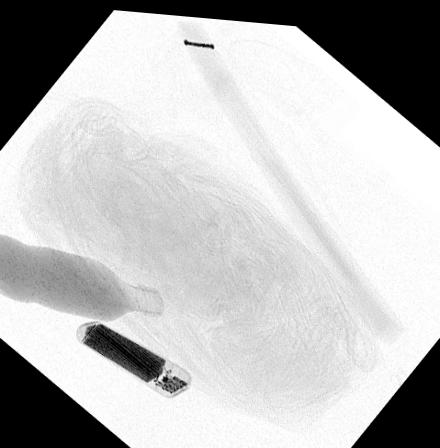Powerbank: (76, 318, 190, 396)
